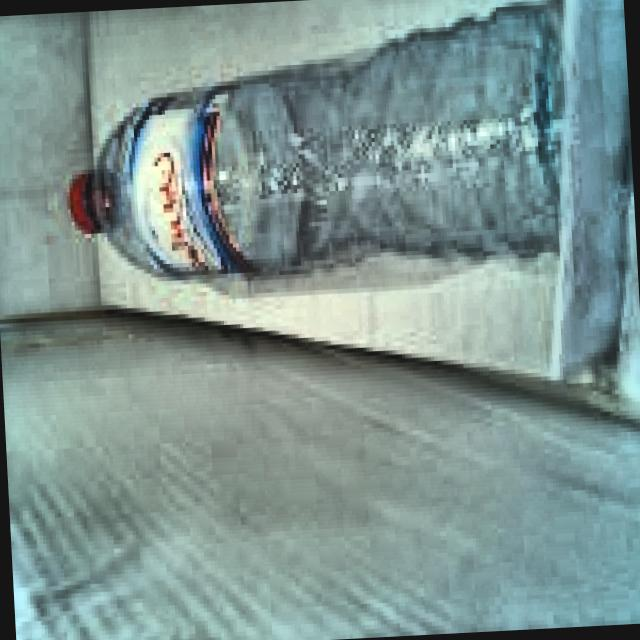plastic bottle: (71, 7, 559, 276)
